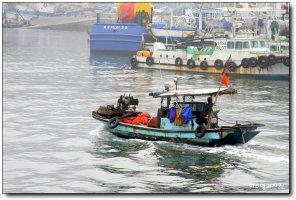Ship: (83, 82, 265, 154), (126, 25, 295, 86)
